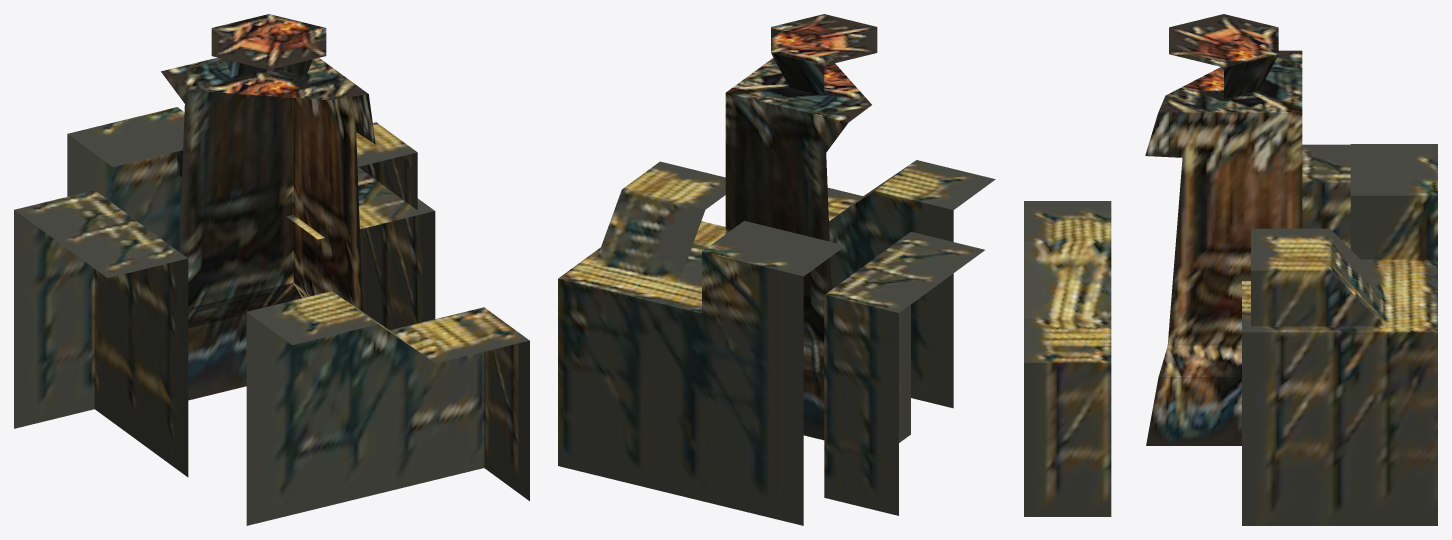
File: F_GuildRampart_00.fbx
3 views of the same model, side by side, from view 1: azimuth 30°, elevation 25°; view 2: azimuth 150°, elevation 25°; view 3: azimuth 270°, elevation 25° (orthographic). The views are drawn at different scales.
Visible parts, largest first — view 1: F_GuildRampart_00, T_BuildForm_03, T_BuildForm_02, T_BuildForm_01; view 2: T_BuildForm_01, F_GuildRampart_00, T_BuildForm_02, T_BuildForm_03; view 3: T_BuildForm_01, F_GuildRampart_00, T_BuildForm_03, T_BuildForm_02.
Boxes of the visible parts, x1=… form: F_GuildRampart_00: x1=161, y1=14, x2=375, y2=400; T_BuildForm_03: x1=246, y1=291, x2=529, y2=525; T_BuildForm_02: x1=14, y1=190, x2=188, y2=477; T_BuildForm_01: x1=67, y1=107, x2=435, y2=329; T_BuildForm_01: x1=558, y1=161, x2=845, y2=525; F_GuildRampart_00: x1=725, y1=14, x2=877, y2=440; T_BuildForm_02: x1=824, y1=231, x2=984, y2=515; T_BuildForm_03: x1=827, y1=160, x2=995, y2=408; T_BuildForm_01: x1=1242, y1=144, x2=1437, y2=525; F_GuildRampart_00: x1=1145, y1=14, x2=1302, y2=445; T_BuildForm_03: x1=1024, y1=201, x2=1111, y2=516; T_BuildForm_02: x1=1302, y1=144, x2=1350, y2=248.
Size of the model in its own units: 0.5259 by 0.6161 by 0.5732.
2 materials, 2 textured.
